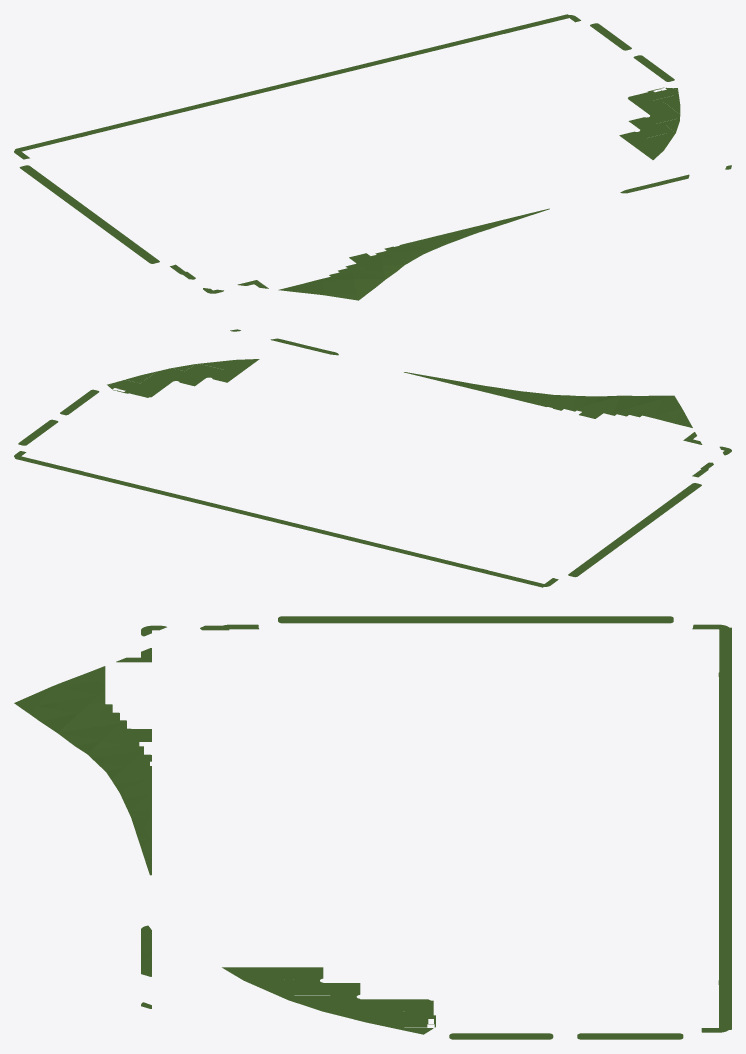
File: SM_MPRGE_CampusGreen.fbx
3 views of the same model, one above another, from view 1: azimuth 30°, elevation 25°; view 2: azimuth 150°, elevation 25°; view 3: azimuth 270°, elevation 25° (orthographic). The views are drawn at different scales.
Visible parts, largest first — view 1: SM_MPRGE_CampusGreen; view 2: SM_MPRGE_CampusGreen; view 3: SM_MPRGE_CampusGreen.
Part boxes in pixels (box(x1,y1,x2,y2)): SM_MPRGE_CampusGreen: box(14, 14, 731, 300); SM_MPRGE_CampusGreen: box(14, 329, 731, 587); SM_MPRGE_CampusGreen: box(14, 616, 731, 1039).
Bounding box in the file's own units: 41530 × 29759 × 143.
